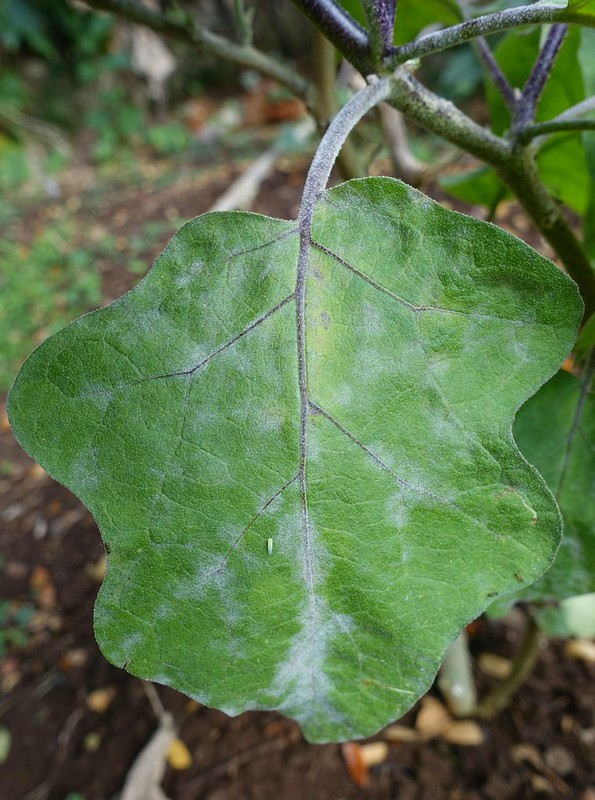Eggplant_PowderyMildew: (59, 228, 571, 715)
